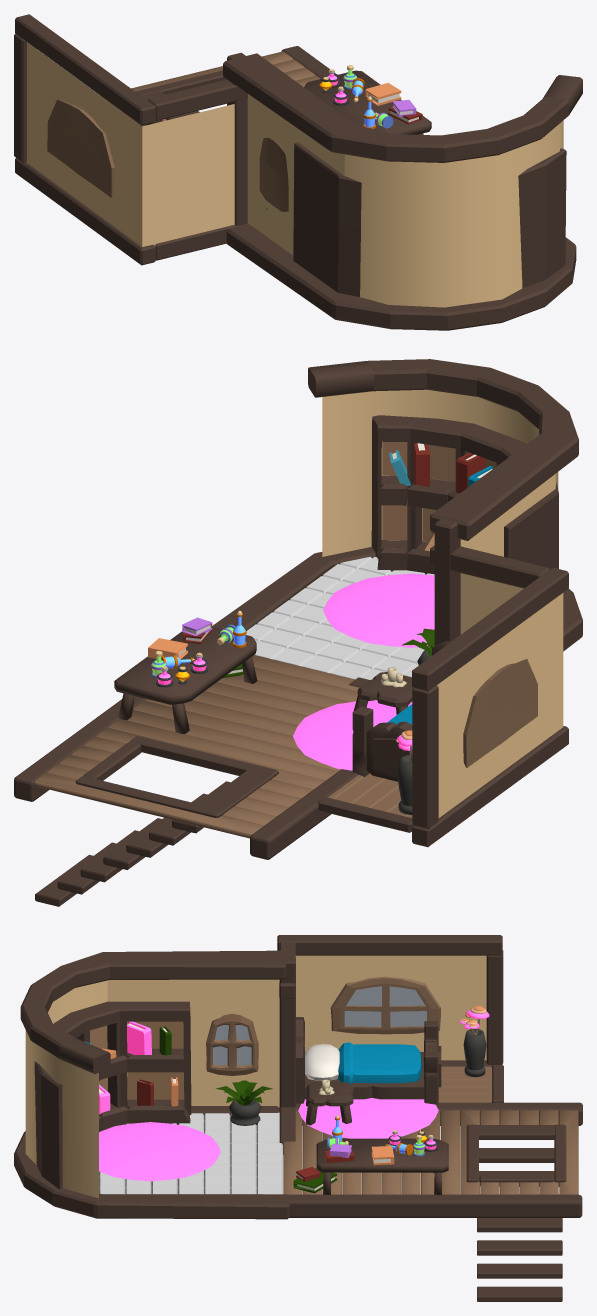
The model's file is MageRoom_2.fbx.
3 views of the same model, one above another, from view 1: azimuth 30°, elevation 25°; view 2: azimuth 150°, elevation 25°; view 3: azimuth 270°, elevation 25° (orthographic). The views are drawn at different scales.
Visible parts, largest first — view 1: ColouredHouse.020, ColouredHouse.023, ColouredHouse.024, Cube.035, Cube.029, Cube.030, Cube.031, Cube; view 2: ColouredHouse.020, ColouredHouse.023, Cube.035, Alfombra_1.005, ColouredHouse.003, ColouredHouse.024, Cube, Cube.030, Alfombra_1.004, Cube.028, Cube.029, mesita.002 (+2 smaller); view 3: ColouredHouse.020, ColouredHouse.023, ColouredHouse.024, ColouredHouse.003, Cube.028, Alfombra_1.005, Cube.035, Alfombra_1.004, Cube, Cube.030, mesita.002, Cylinder.013 (+2 smaller).
Boxes of the visible parts, left/top/right/bottom form: ColouredHouse.020: left=15, top=14, right=582, bottom=330; ColouredHouse.023: left=293, top=142, right=566, bottom=296; ColouredHouse.024: left=47, top=99, right=288, bottom=211; Cube.035: left=304, top=65, right=431, bottom=134; Cube.029: left=15, top=158, right=155, bottom=265; Cube.030: left=14, top=33, right=26, bottom=162; Cube.031: left=155, top=224, right=247, bottom=260; Cube: left=135, top=70, right=226, bottom=95; ColouredHouse.020: left=14, top=359, right=582, bottom=859; ColouredHouse.023: left=371, top=415, right=558, bottom=574; Cube.035: left=114, top=610, right=257, bottom=733; Alfombra_1.005: left=323, top=573, right=434, bottom=647; ColouredHouse.003: left=35, top=769, right=273, bottom=906; ColouredHouse.024: left=463, top=659, right=537, bottom=767; Cube: left=75, top=736, right=278, bottom=817; Cube.030: left=412, top=685, right=438, bottom=828; Alfombra_1.004: left=293, top=700, right=412, bottom=770; Cube.028: left=352, top=638, right=497, bottom=781; Cube.029: left=412, top=726, right=568, bottom=847; mesita.002: left=353, top=667, right=412, bottom=714; ColouredHouse.020: left=14, top=935, right=582, bottom=1219; ColouredHouse.023: left=34, top=1001, right=191, bottom=1189; ColouredHouse.024: left=206, top=976, right=440, bottom=1075; ColouredHouse.003: left=477, top=1125, right=562, bottom=1301; Cube.028: left=296, top=1017, right=441, bottom=1104; Alfombra_1.005: left=99, top=1122, right=220, bottom=1181; Cube.035: left=293, top=1115, right=448, bottom=1194; Alfombra_1.004: left=298, top=1098, right=438, bottom=1138; Cube: left=466, top=1124, right=566, bottom=1186; Cube.030: left=486, top=950, right=503, bottom=1064; mesita.002: left=306, top=1079, right=353, bottom=1125; Cylinder.013: left=215, top=1080, right=272, bottom=1125.
Bounding box in the file's own units: 960 × 764 × 1568.
